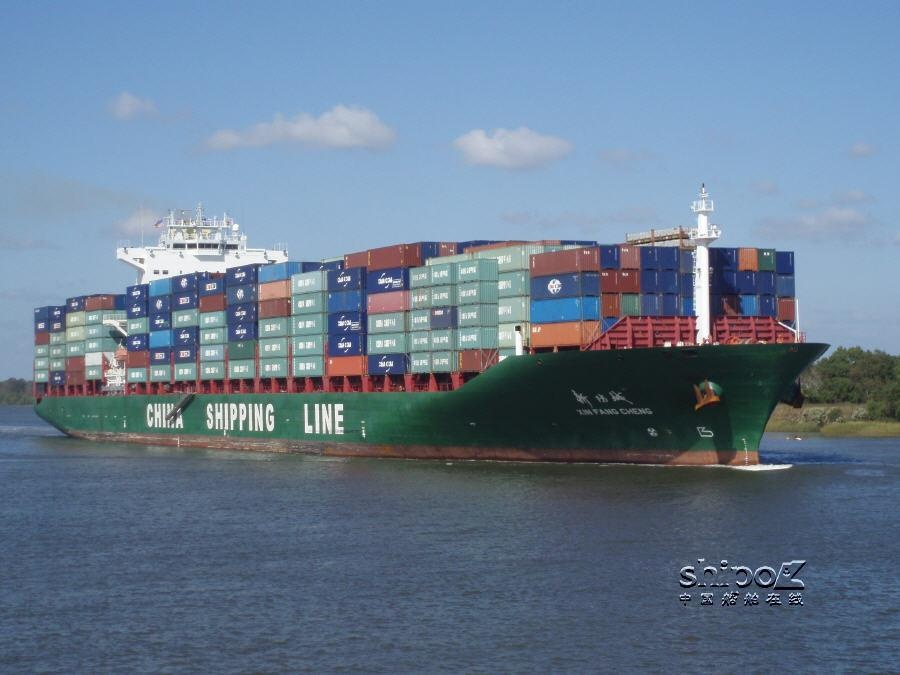Cargoship: (22, 169, 826, 462)
